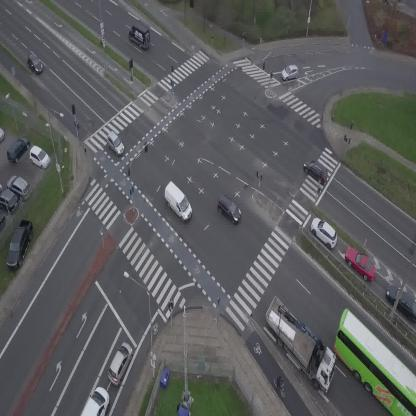bicycle: (272, 375, 287, 399)
car: (340, 241, 382, 285), (103, 340, 137, 387), (305, 213, 343, 251), (81, 383, 116, 416), (299, 155, 333, 187), (214, 194, 245, 225), (102, 130, 129, 157), (23, 52, 46, 76), (279, 63, 300, 81)
lorry: (253, 290, 350, 397), (156, 180, 199, 223), (124, 20, 157, 52)
